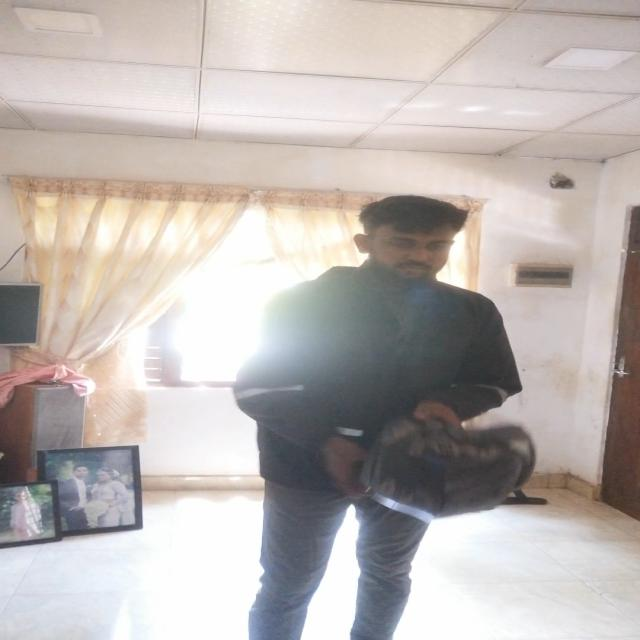Jacket_Wearer: (245, 267, 524, 505)
Person: (236, 204, 520, 632)
